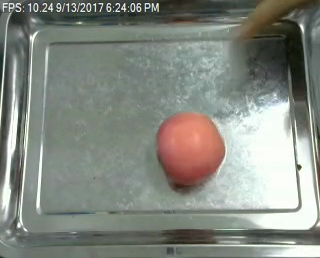Apple: (154, 109, 224, 188)
